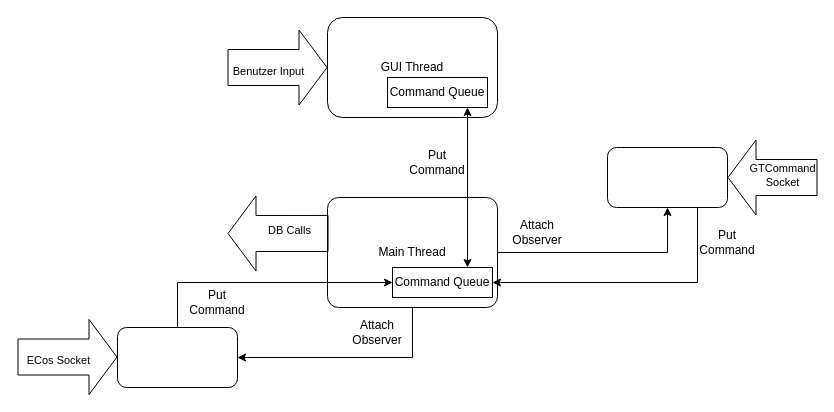
The diagram is 834 pixels wide and 412 high, and some of its shapes have lost their labels. Here are the shapes that lost their labels. From the top down, the centre of each, then its label:
the point at 667,177: GTCommand Thread
the point at 177,357: ECoS Thread
